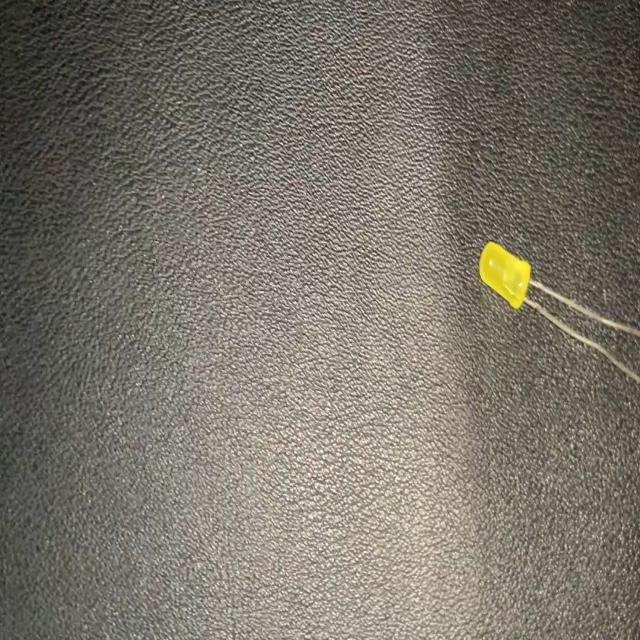LED: (476, 232, 640, 388)
